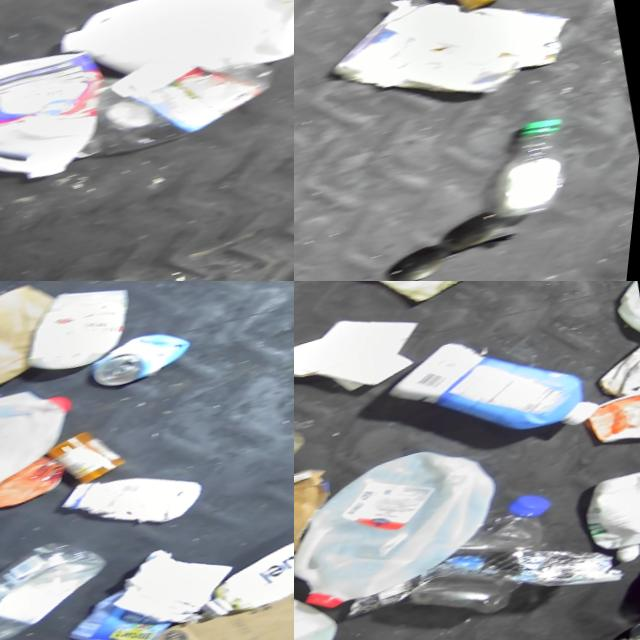can: (85, 322, 202, 395), (0, 452, 80, 519), (617, 601, 640, 640)
milk_jug: (294, 433, 528, 621), (49, 0, 294, 117), (0, 376, 99, 532), (16, 281, 147, 381), (603, 281, 640, 346)
non_white_jug: (374, 306, 618, 474), (0, 34, 137, 195)
plastic_bottle: (59, 32, 294, 170), (398, 489, 587, 633), (471, 109, 600, 227), (0, 529, 130, 640)
